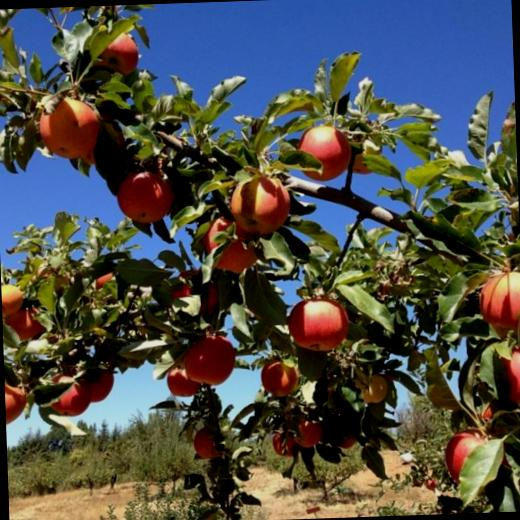Apple: (226, 174, 292, 236), (37, 95, 99, 159), (287, 294, 349, 355), (447, 430, 509, 490), (204, 214, 257, 281), (298, 126, 352, 182), (186, 332, 236, 388), (474, 270, 520, 329), (90, 31, 140, 77), (79, 118, 128, 164), (46, 371, 92, 417), (173, 268, 216, 314), (256, 358, 300, 400), (31, 255, 70, 294), (3, 306, 44, 341), (498, 347, 520, 405), (165, 366, 204, 398), (342, 145, 381, 175), (294, 410, 322, 451), (353, 376, 390, 406), (86, 364, 113, 405), (4, 378, 26, 426), (191, 428, 218, 459), (1, 285, 22, 317), (273, 430, 296, 456), (94, 273, 115, 290), (473, 403, 491, 421), (342, 434, 359, 449), (412, 478, 422, 488), (427, 477, 436, 488)
